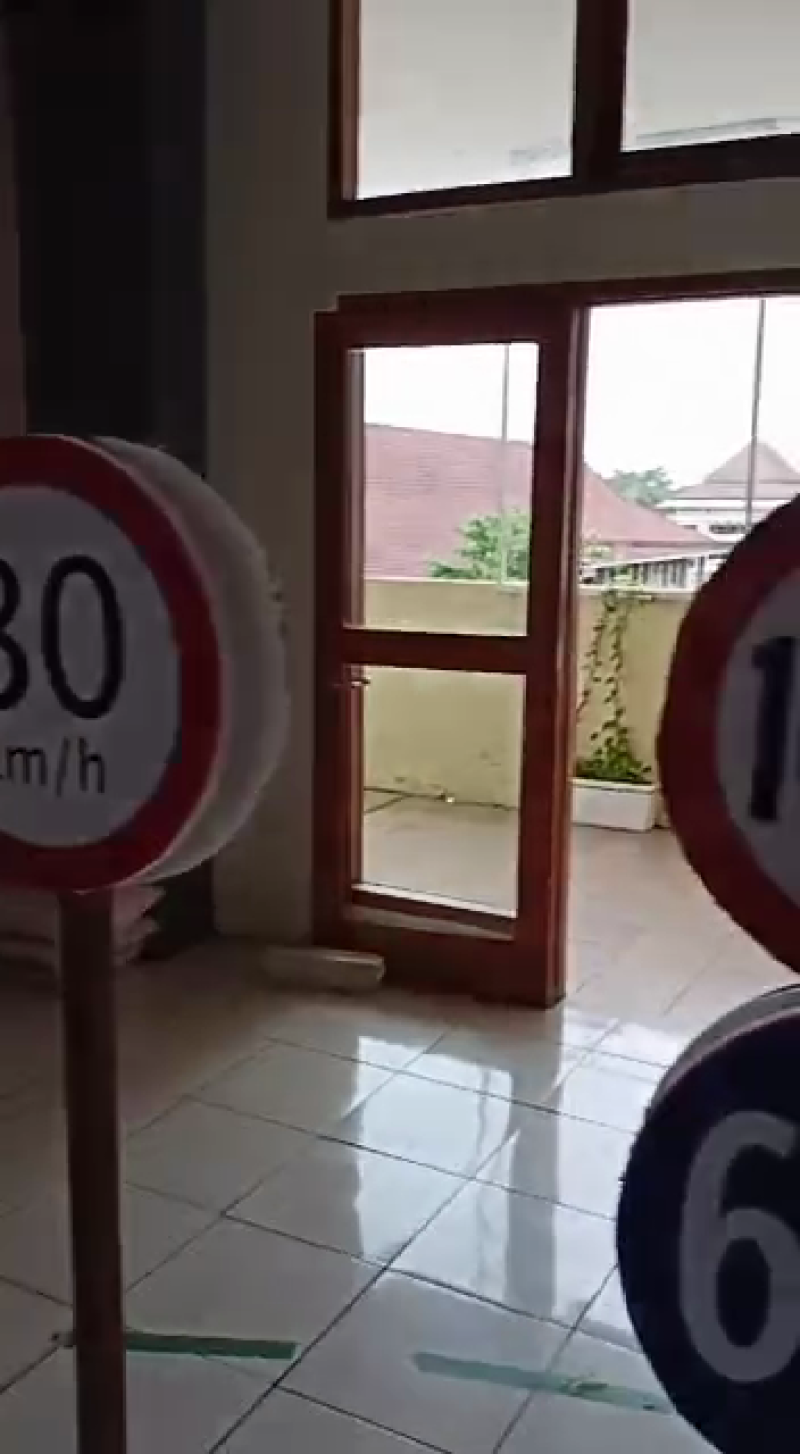batas maksimal 80kmperjam: (1, 411, 244, 928)
